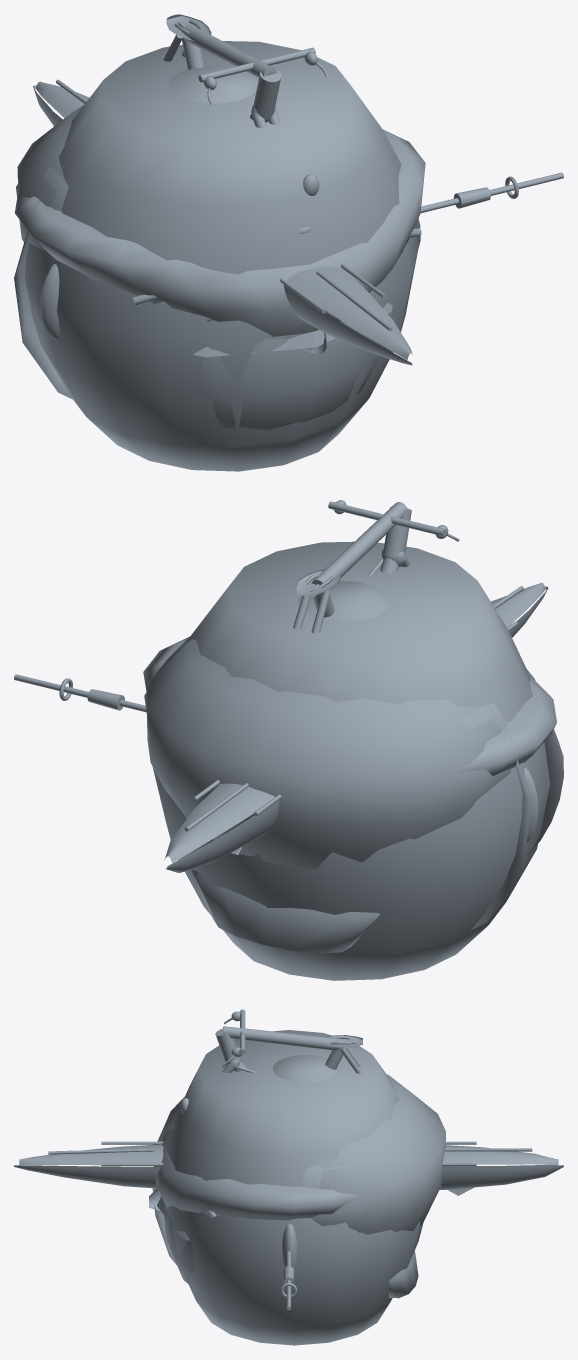
Rendered from rowplay-rigs-v3.glb.
3 views of the same model, one above another, from view 1: azimuth 30°, elevation 25°; view 2: azimuth 150°, elevation 25°; view 3: azimuth 270°, elevation 25° (orthographic). The views are drawn at different scales.
Visible parts, largest first — view 1: athlete:pelvis, athlete:torso, athlete:head, athlete:hair, equipment:row:boat-assembly:bow-deck, equipment:bike:frame-assembly:main-triangle, equipment:row:boat-assembly:hull, athlete:thigh, equipment:ski:pole-basket, equipment:row:boat-assembly:stern-deck, athlete:helmet, equipment:bike:frame-assembly:cockpit (+3 smaller); view 2: athlete:pelvis, athlete:hair, athlete:torso, equipment:row:boat-assembly:stern-deck, equipment:bike:frame-assembly:main-triangle, equipment:row:boat-assembly:hull, athlete:helmet, athlete:thigh, athlete:shoulder, equipment:row:boat-assembly:bow-deck, equipment:bike:frame-assembly:cockpit, equipment:bike:frame-assembly:stays-and-fork (+3 smaller); view 3: athlete:pelvis, athlete:hair, athlete:torso, equipment:row:boat-assembly:hull, equipment:bike:frame-assembly:main-triangle, equipment:row:boat-assembly:bow-deck, athlete:head, equipment:row:boat-assembly:stern-deck, athlete:helmet, equipment:row:boat-assembly:gunwales, equipment:row:boat-assembly:accent-strakes, athlete:shoulder.
Boxes of the visible parts, x1,y1,x2,y2 form: athlete:pelvis: (25,41,418,471); athlete:torso: (15,129,425,336); athlete:head: (41,264,393,430); athlete:hair: (17,65,258,241); equipment:row:boat-assembly:bow-deck: (286,266,412,359); equipment:bike:frame-assembly:main-triangle: (181,25,281,119); equipment:row:boat-assembly:hull: (33,85,412,365); athlete:thigh: (14,86,172,399); equipment:ski:pole-basket: (192,302,392,357); equipment:row:boat-assembly:stern-deck: (35,81,89,118); athlete:helmet: (16,167,387,321); equipment:bike:frame-assembly:cockpit: (198,47,315,82); athlete:pelvis: (152,541,550,980); athlete:hair: (146,581,501,953); athlete:torso: (143,638,556,775); equipment:row:boat-assembly:stern-deck: (165,783,274,863); equipment:bike:frame-assembly:main-triangle: (311,502,411,617); equipment:row:boat-assembly:hull: (165,586,548,872); athlete:helmet: (144,636,511,803); athlete:thigh: (375,615,531,929); athlete:shoulder: (526,669,563,855); equipment:row:boat-assembly:bow-deck: (491,582,545,627); equipment:bike:frame-assembly:cockpit: (328,501,446,536); equipment:bike:frame-assembly:stays-and-fork: (293,555,410,633); athlete:pelvis: (164,1030,423,1345); athlete:hair: (272,1055,445,1298); athlete:torso: (153,1128,364,1220); equipment:row:boat-assembly:hull: (14,1165,563,1189); equipment:bike:frame-assembly:main-triangle: (215,1026,346,1071); equipment:row:boat-assembly:bow-deck: (19,1144,163,1165); athlete:head: (149,1188,297,1291); equipment:row:boat-assembly:stern-deck: (443,1145,558,1165); athlete:helmet: (182,1164,393,1232); equipment:row:boat-assembly:gunwales: (101,1141,476,1166); equipment:row:boat-assembly:accent-strakes: (48,1148,532,1154); athlete:shoulder: (152,1097,184,1264).
Size of the model in its own units: 3.36 by 2.39 by 4.16.
